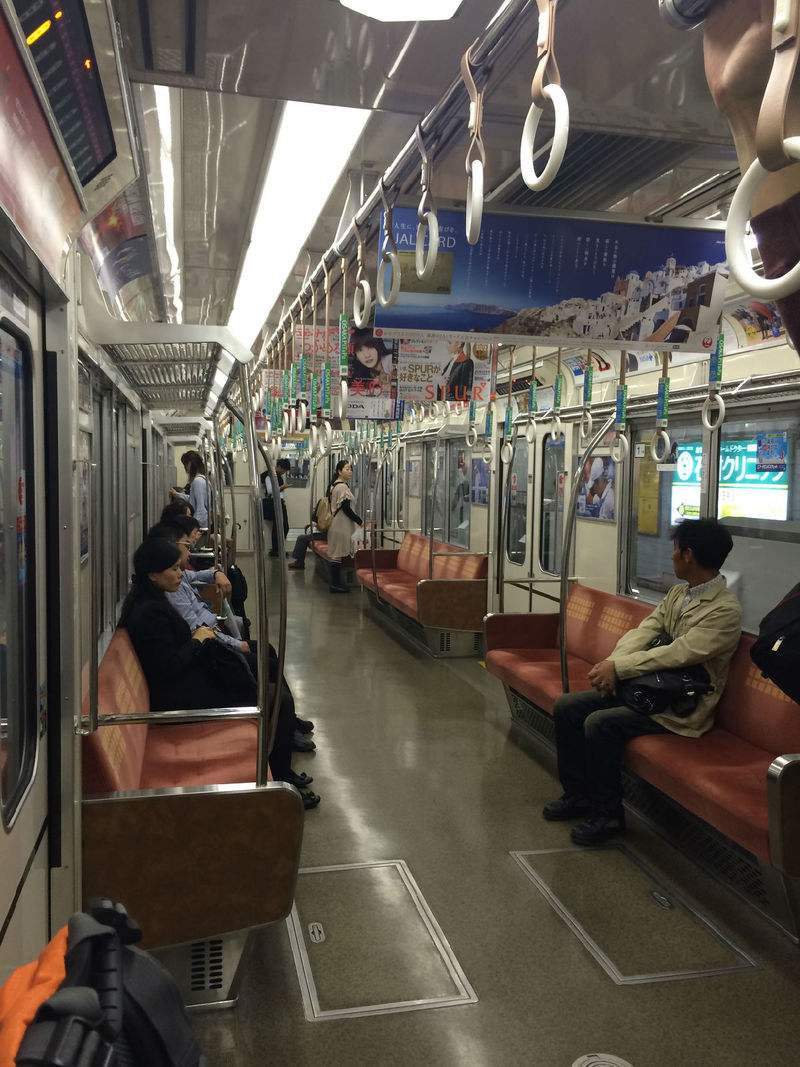no_mask: (657, 514, 737, 594), (131, 516, 189, 607), (323, 438, 360, 488)
